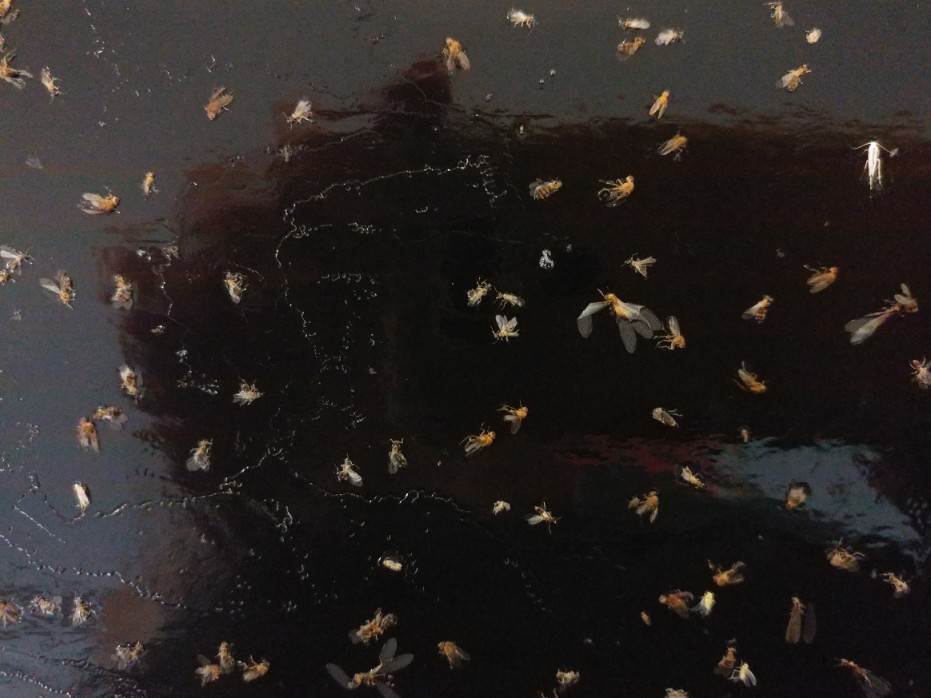termite: (571, 278, 665, 358)
